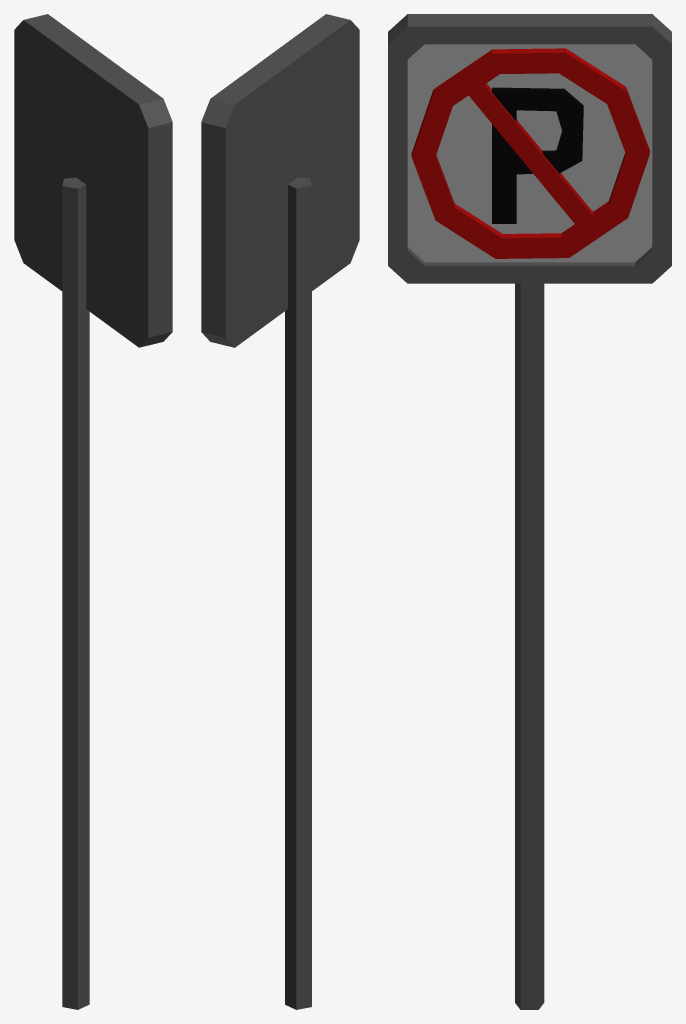
The model's file is Sign_NoParking.glb.
3 views of the same model, side by side, from view 1: azimuth 30°, elevation 25°; view 2: azimuth 150°, elevation 25°; view 3: azimuth 270°, elevation 25° (orthographic). The views are drawn at different scales.
Parts seen in each view (by area): view 1: Sign_NoParking; view 2: Sign_NoParking; view 3: Sign_NoParking.
Boxes of the visible parts, x1,y1,x2,y2 form: Sign_NoParking: [14, 14, 172, 1009]; Sign_NoParking: [201, 14, 359, 1009]; Sign_NoParking: [388, 14, 671, 1009].
Size of the model in its own units: 0.0269 by 0.5388 by 0.1394.
